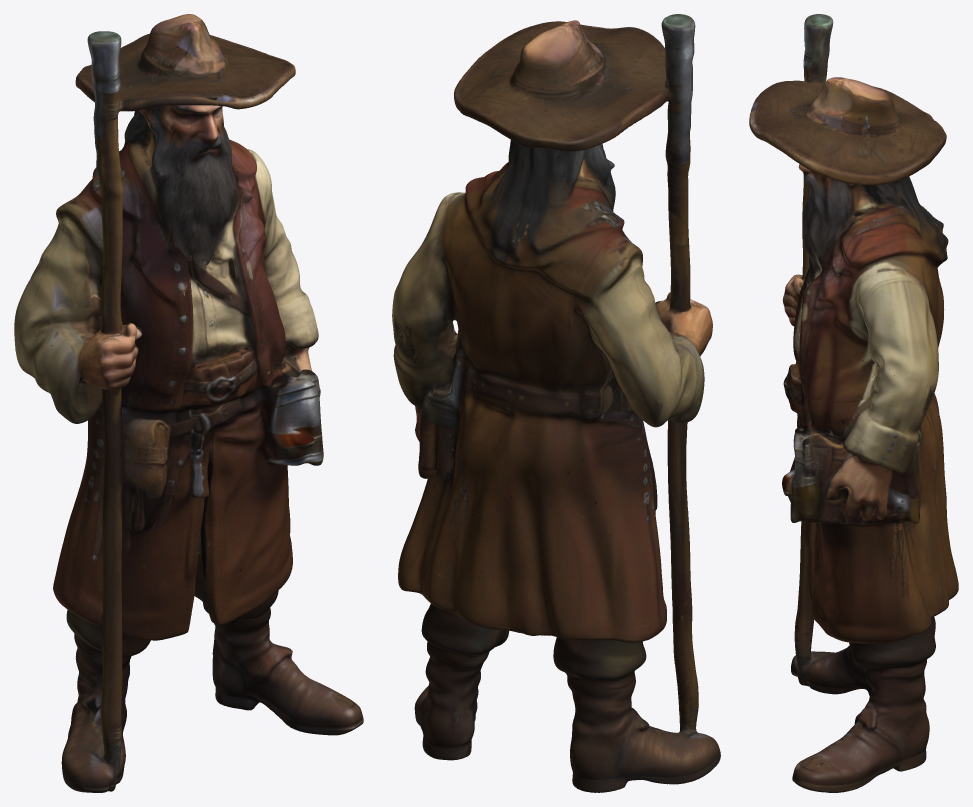
Rendered from Classic_NPC_s_that_go_1030014743_texture.fbx.
3 views of the same model, side by side, from view 1: azimuth 30°, elevation 25°; view 2: azimuth 150°, elevation 25°; view 3: azimuth 270°, elevation 25° (orthographic). The views are drawn at different scales.
Visible parts, largest first — view 1: Mesh1.0; view 2: Mesh1.0; view 3: Mesh1.0.
Boxes of the visible parts, x1=… form: Mesh1.0: x1=14, y1=14, x2=363, y2=792; Mesh1.0: x1=392, y1=14, x2=720, y2=792; Mesh1.0: x1=749, y1=14, x2=958, y2=792.
Size of the model in its own units: 82.81 by 200 by 56.84.
1 material, 1 textured.
